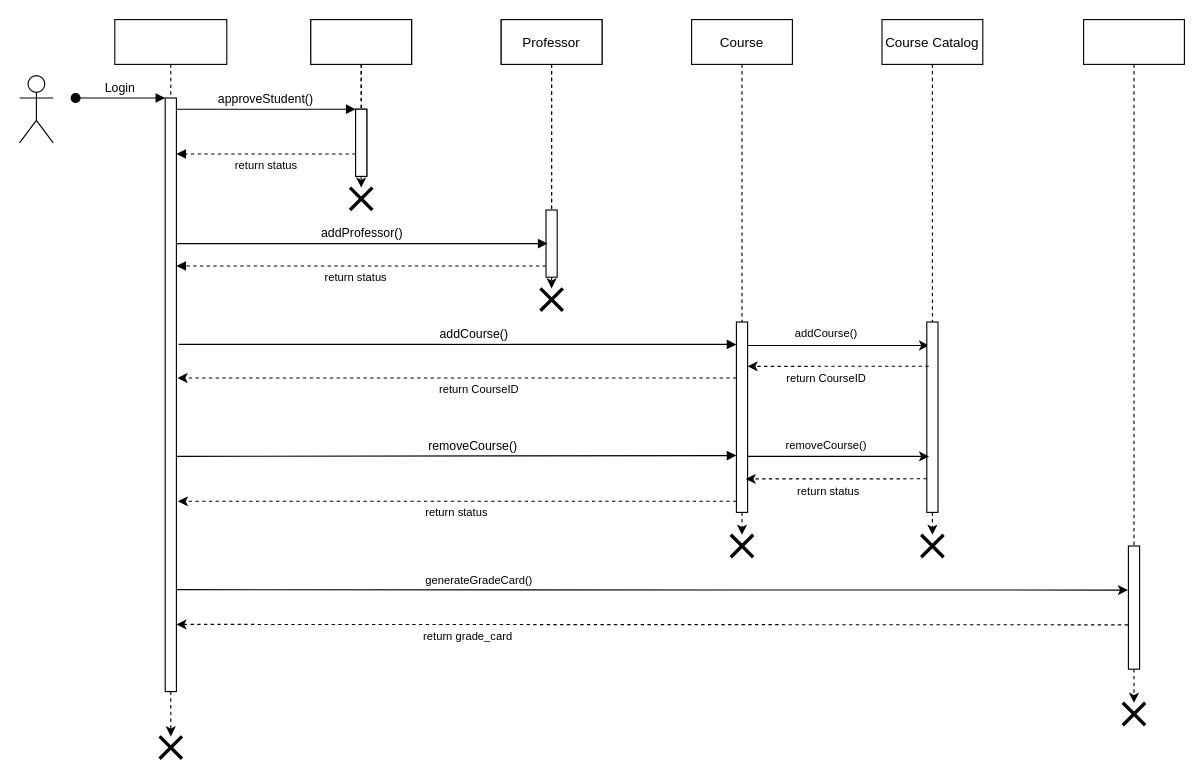
The diagram is 1204 pixels wide and 780 high, and some of its shapes have lost their labels. The shapes that lost their labels are listed below. From the top down, each one's box as (x1, y1, x2, y2) in pixels, then its label:
(310, 18, 412, 176): Student
(1082, 18, 1184, 546): Grade Card
(114, 18, 227, 692): Admin
